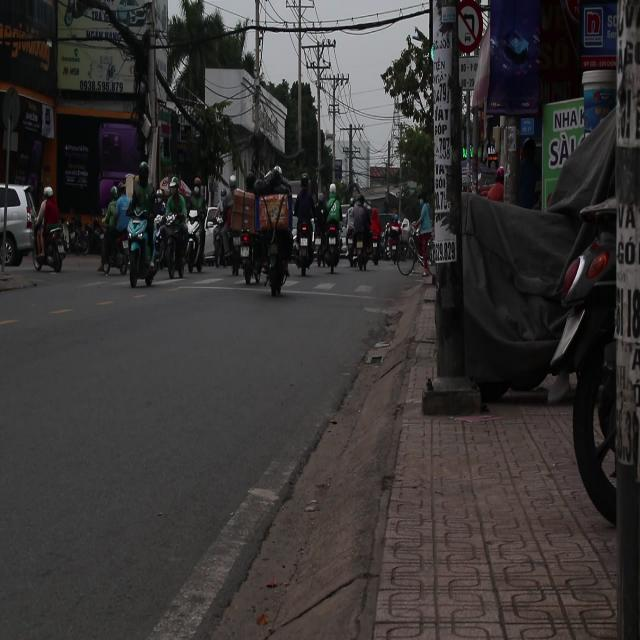car: (0, 182, 34, 268)
motorbike: (124, 211, 156, 288), (152, 213, 187, 283), (265, 230, 291, 308), (35, 223, 67, 277), (238, 231, 262, 287), (65, 214, 93, 255)
